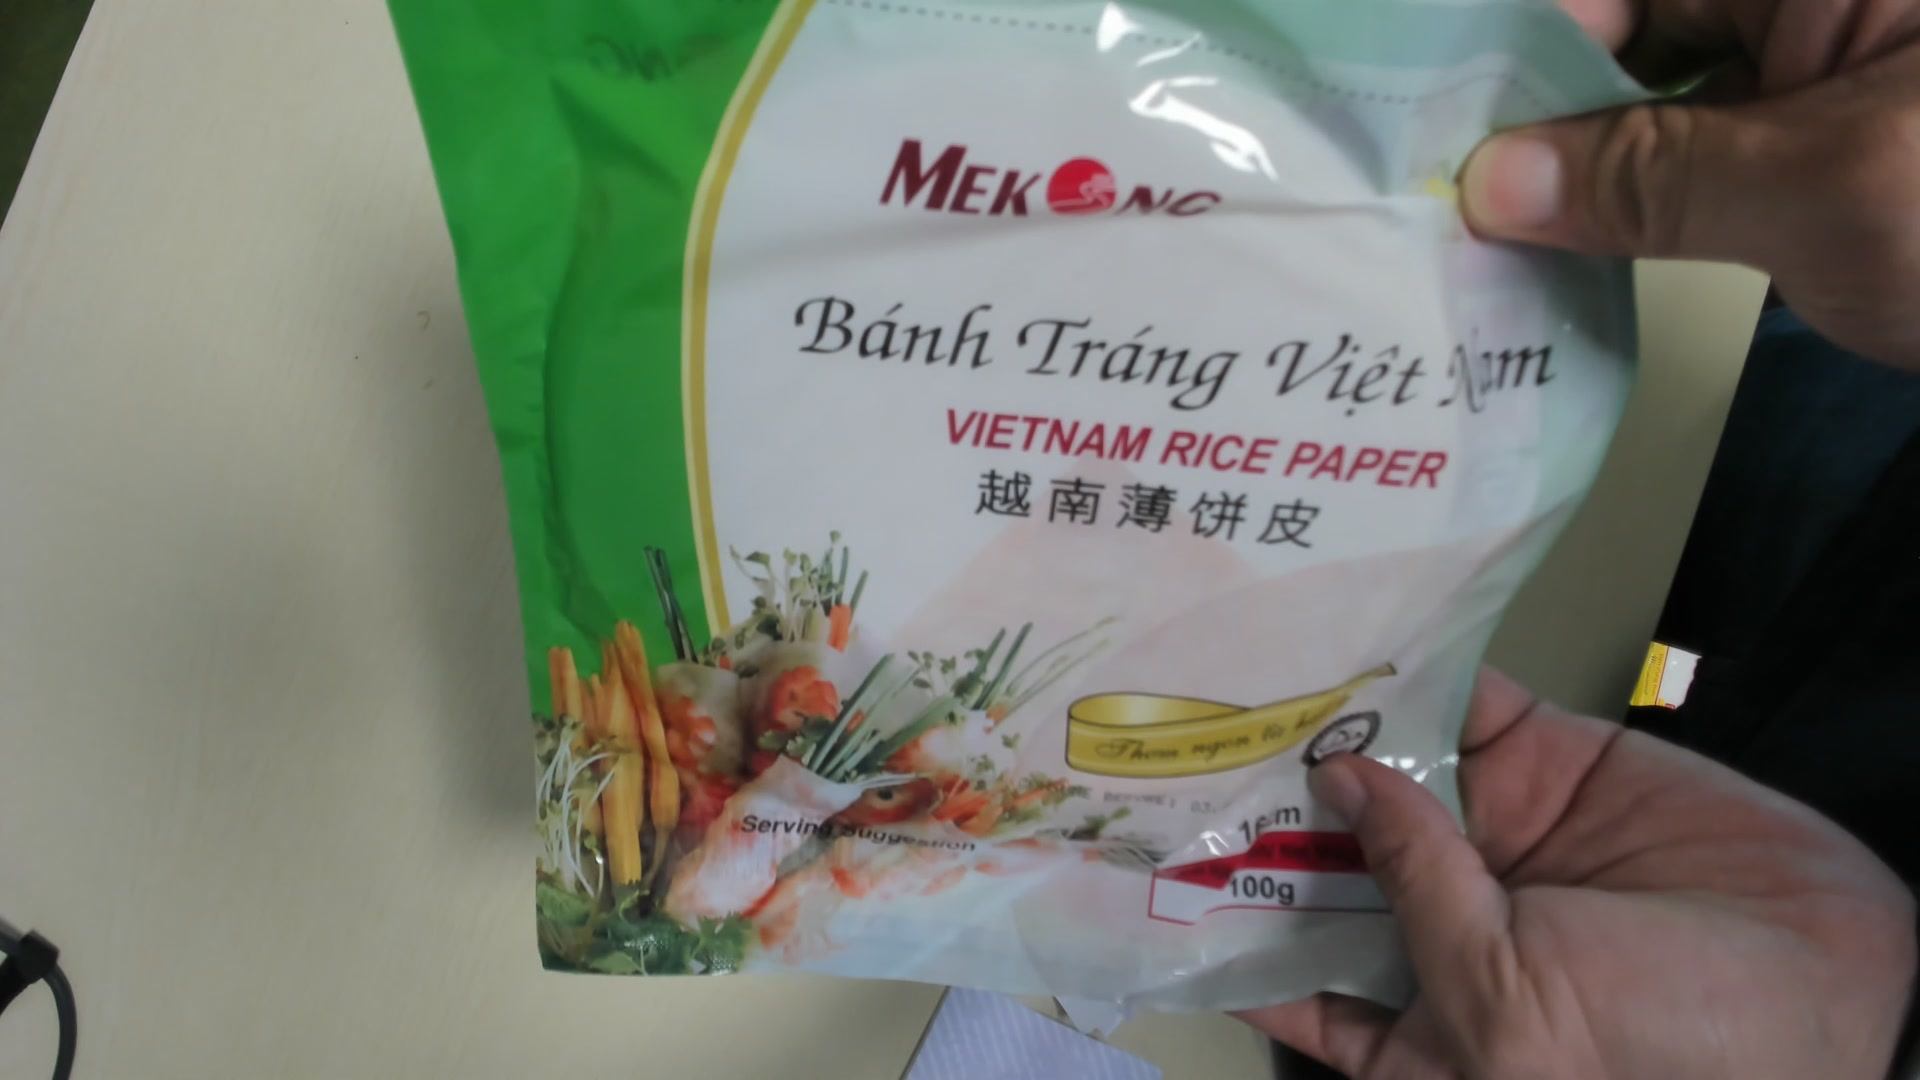InstantMeals_300_399g_NonHalal_NonHealthy: (396, 1, 1655, 1009)
